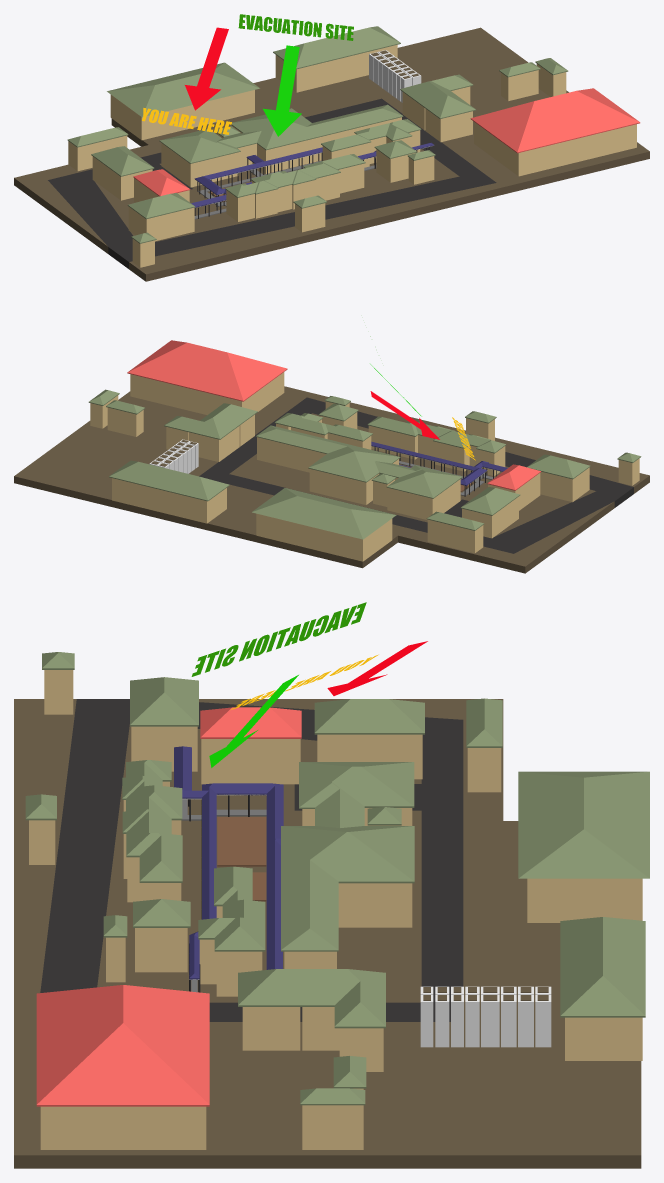
The model's file is CIVILDEPARTMENT.glb.
3 views of the same model, one above another, from view 1: azimuth 30°, elevation 25°; view 2: azimuth 150°, elevation 25°; view 3: azimuth 270°, elevation 25° (orthographic). The views are drawn at different scales.
Parts seen in each view (by area): view 1: Toposolid Grassland - 1200mm [352516], Toposolid Grassland - 1200mm [354195], Basic Roof Generic - 125mm [387914], Basic Roof Generic - 125mm [384035], Basic Roof Generic - 125mm [378573], Basic Wall Generic - 200mm [355787], Basic Roof Generic - 125mm [385592], Basic Wall Generic - 200mm [355672], Basic Roof Generic - 125mm [385698], Basic Roof Generic - 125mm [387351], Basic Wall Generic - 200mm [355773], Plane.001 (+31 smaller); view 2: Toposolid Grassland - 1200mm [352516], Toposolid Grassland - 1200mm [354195], Basic Roof Generic - 125mm [387914], Basic Roof Generic - 125mm [384035], Basic Roof Generic - 125mm [378573], Basic Wall Generic - 200mm [355757], Basic Roof Generic - 125mm [385592], Basic Wall Generic - 200mm [355771], Basic Wall Generic - 200mm [355789], Basic Roof Generic - 125mm [387351], Basic Roof Generic - 125mm [385698], Basic Wall Generic - 200mm [357221] (+25 smaller); view 3: Toposolid Grassland - 1200mm [352516], Toposolid Grassland - 1200mm [354195], Basic Roof Generic - 125mm [387914], Basic Roof Generic - 125mm [384035], Basic Roof Generic - 125mm [378573], Basic Roof Generic - 125mm [385592], Basic Wall Generic - 200mm [355788], Basic Roof Generic - 125mm [389243], Basic Roof Generic - 125mm [387351], Basic Roof Generic - 125mm [385698], Basic Wall Generic - 200mm [355719], Basic Roof Generic - 125mm [387935] (+31 smaller).
Part boxes in pixels (<box>): Toposolid Grassland - 1200mm [352516]: <box>14,27,649,281</box>; Toposolid Grassland - 1200mm [354195]: <box>48,98,496,268</box>; Basic Roof Generic - 125mm [387914]: <box>470,88,640,153</box>; Basic Roof Generic - 125mm [384035]: <box>159,104,403,163</box>; Basic Roof Generic - 125mm [378573]: <box>107,62,259,117</box>; Basic Wall Generic - 200mm [355787]: <box>520,124,636,175</box>; Basic Roof Generic - 125mm [385592]: <box>273,26,400,69</box>; Basic Wall Generic - 200mm [355672]: <box>143,90,254,139</box>; Basic Roof Generic - 125mm [385698]: <box>225,154,365,197</box>; Basic Roof Generic - 125mm [387351]: <box>400,74,475,118</box>; Basic Wall Generic - 200mm [355773]: <box>298,45,397,92</box>; Plane.001: <box>263,45,301,136</box>; Toposolid Grassland - 1200mm [352516]: <box>14,386,649,573</box>; Toposolid Grassland - 1200mm [354195]: <box>199,397,633,553</box>; Basic Roof Generic - 125mm [387914]: <box>127,340,287,401</box>; Basic Roof Generic - 125mm [384035]: <box>256,425,462,498</box>; Basic Roof Generic - 125mm [378573]: <box>252,488,396,539</box>; Basic Wall Generic - 200mm [355757]: <box>257,514,361,561</box>; Basic Roof Generic - 125mm [385592]: <box>109,460,229,501</box>; Basic Wall Generic - 200mm [355771]: <box>113,478,207,523</box>; Basic Wall Generic - 200mm [355789]: <box>131,374,242,415</box>; Basic Roof Generic - 125mm [387351]: <box>164,403,257,439</box>; Basic Roof Generic - 125mm [385698]: <box>367,416,506,453</box>; Basic Wall Generic - 200mm [357221]: <box>257,437,326,472</box>; Toposolid Grassland - 1200mm [352516]: <box>14,699,641,1168</box>; Toposolid Grassland - 1200mm [354195]: <box>40,699,463,1021</box>; Basic Roof Generic - 125mm [387914]: <box>36,985,209,1106</box>; Basic Roof Generic - 125mm [384035]: <box>281,762,414,951</box>; Basic Roof Generic - 125mm [378573]: <box>518,771,649,878</box>; Basic Roof Generic - 125mm [385592]: <box>560,917,645,1017</box>; Basic Wall Generic - 200mm [355788]: <box>43,1106,206,1149</box>; Basic Roof Generic - 125mm [389243]: <box>174,746,283,979</box>; Basic Roof Generic - 125mm [387351]: <box>238,969,385,1028</box>; Basic Roof Generic - 125mm [385698]: <box>122,760,182,882</box>; Basic Wall Generic - 200mm [355719]: <box>529,878,642,922</box>; Basic Roof Generic - 125mm [387935]: <box>198,866,265,951</box>.
Size of the model in its own units: 86 by 25.38 by 50.68.
